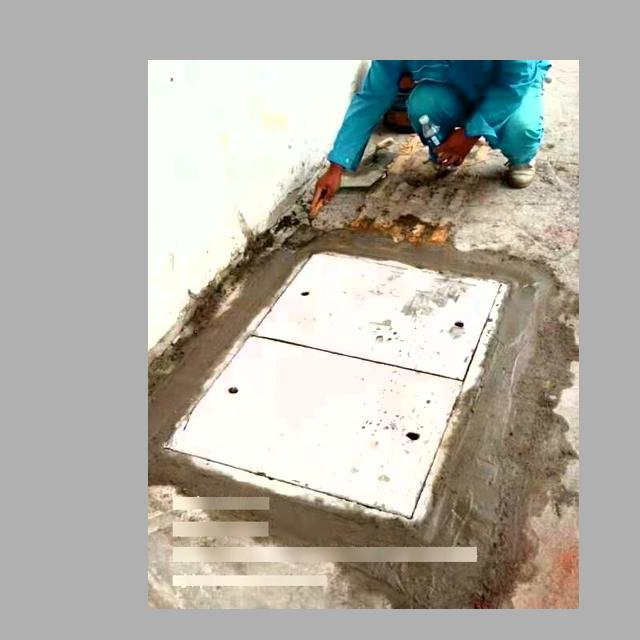good: (155, 248, 504, 520)
